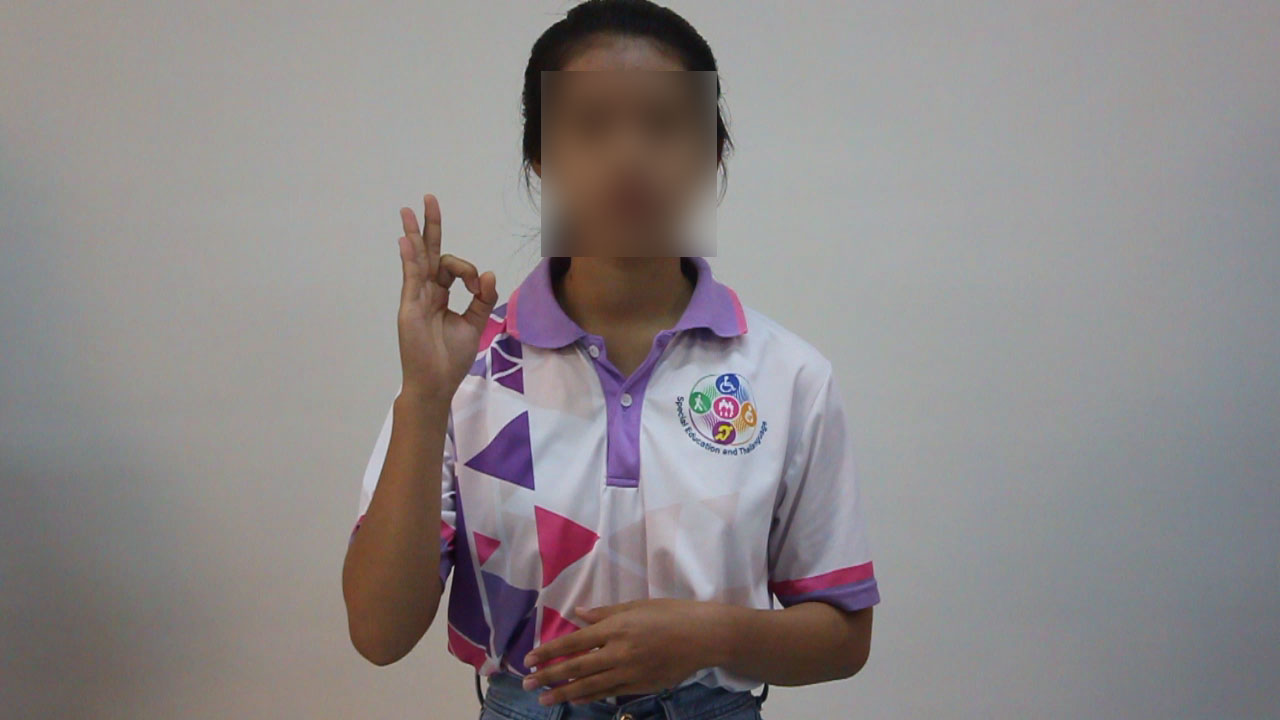for: (384, 181, 506, 403)
